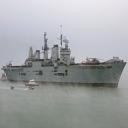Portanaves: (2, 26, 128, 91)
